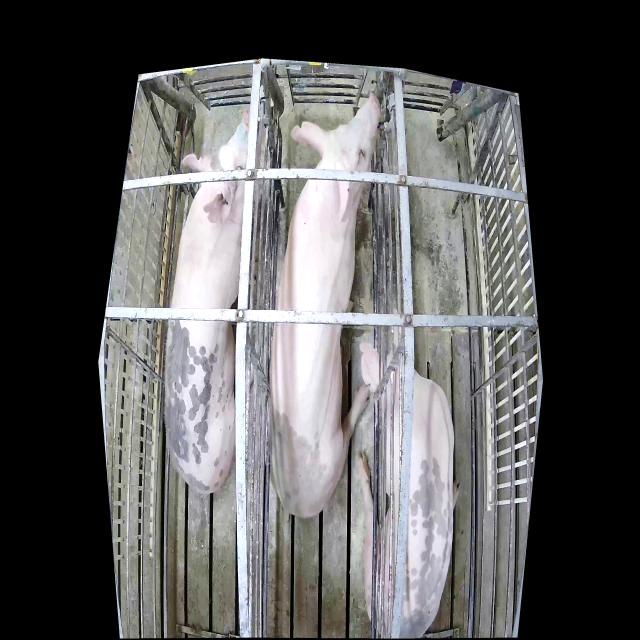pig: (269, 91, 381, 516), (165, 103, 258, 495), (356, 326, 458, 637)
